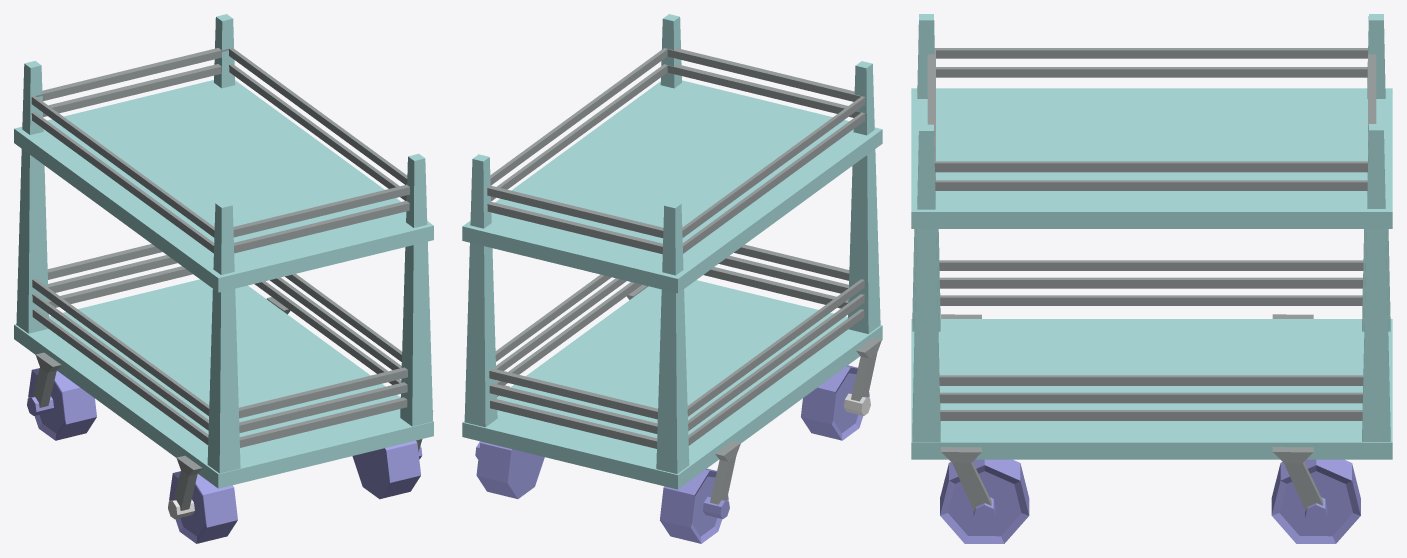
File: Carrinho.fbx
3 renders of one model, left to right at view 1: azimuth 30°, elevation 25°; view 2: azimuth 150°, elevation 25°; view 3: azimuth 270°, elevation 25°, orthographic. The views are drawn at different scales.
Visible parts, largest first — view 1: Cube.001; view 2: Cube.001; view 3: Cube.001.
Boxes of the visible parts, <box> form: Cube.001: <box>14,14,433,543</box>; Cube.001: <box>462,14,882,543</box>; Cube.001: <box>911,14,1392,543</box>.
Size of the model in its own units: 225 by 307 by 326.
